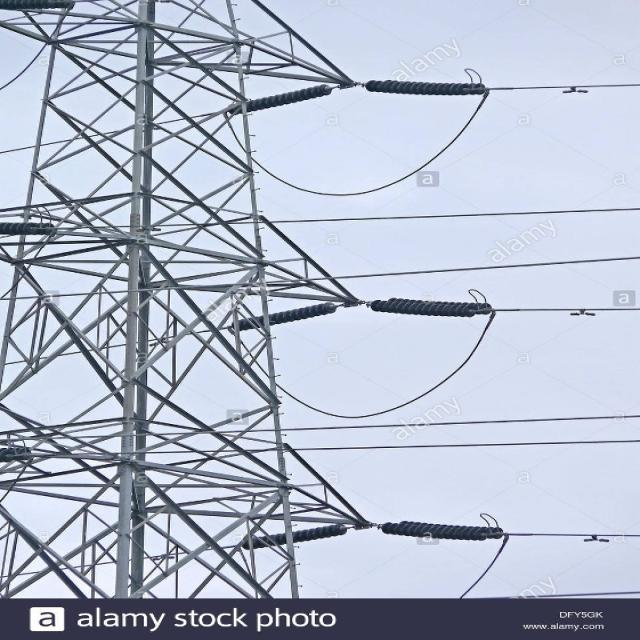non-critical vegetation: (1, 3, 404, 594)
